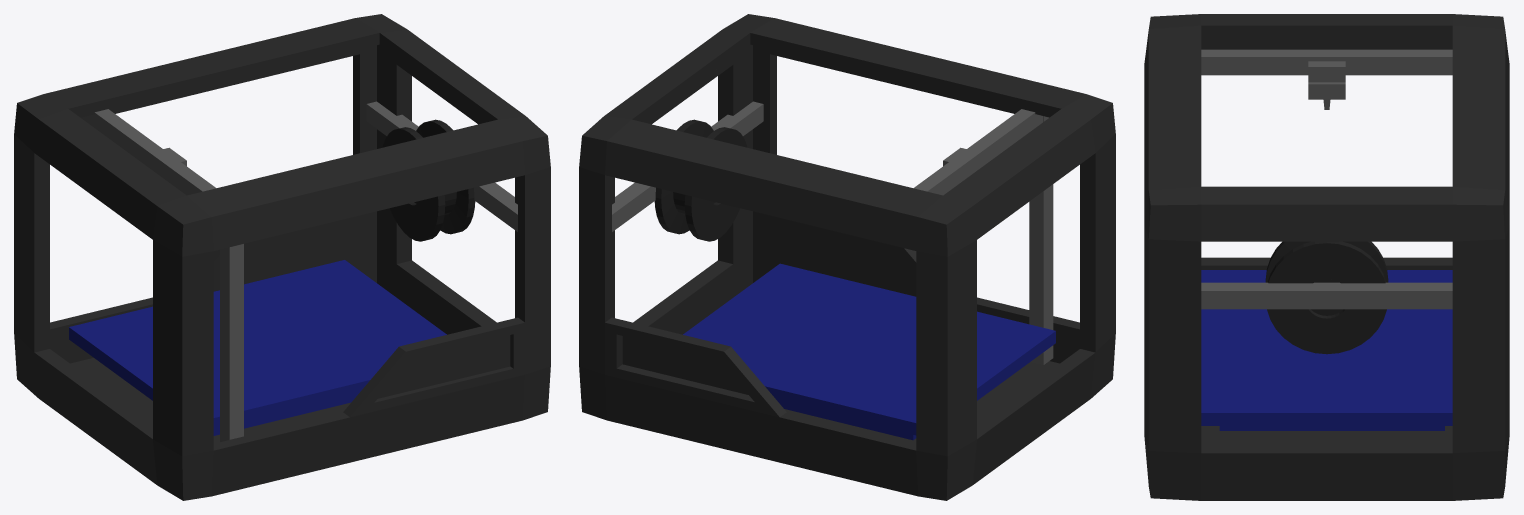
File: 3dPrinter.fbx
3 renders of one model, left to right at view 1: azimuth 30°, elevation 25°; view 2: azimuth 150°, elevation 25°; view 3: azimuth 270°, elevation 25°, orthographic. The views are drawn at different scales.
Visible parts, largest first — view 1: Cylinder, Cube.003; view 2: Cylinder, Cube.003; view 3: Cylinder, Cube.003.
Boxes of the visible parts, x1,y1,x2,y2 form: Cylinder: (14, 14, 550, 500); Cube.003: (81, 109, 243, 441); Cylinder: (579, 14, 1115, 500); Cube.003: (913, 109, 1053, 364); Cylinder: (1144, 14, 1509, 500); Cube.003: (1201, 49, 1452, 109).
Bounding box in the file's own units: 321 × 233 × 254.
